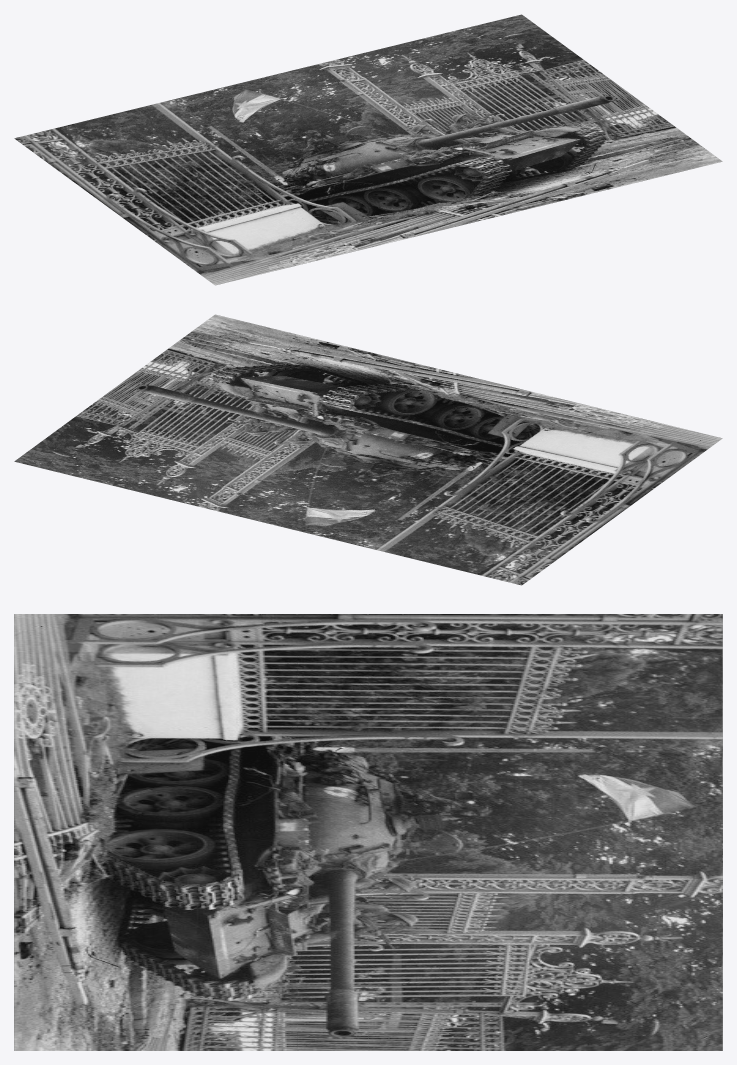
The model's file is Dienbienphubangchiu.fbx.
3 views of the same model, one above another, from view 1: azimuth 30°, elevation 25°; view 2: azimuth 150°, elevation 25°; view 3: azimuth 270°, elevation 25° (orthographic). The views are drawn at different scales.
Visible parts, largest first — view 1: Plane; view 2: Plane; view 3: Plane.
Boxes of the visible parts, <box> form: Plane: <box>14,14,722,285</box>; Plane: <box>14,314,722,585</box>; Plane: <box>14,614,722,1050</box>.
Bounding box in the file's own units: 583 × 0 × 400.
Materials: 1 (1 with a texture image).
